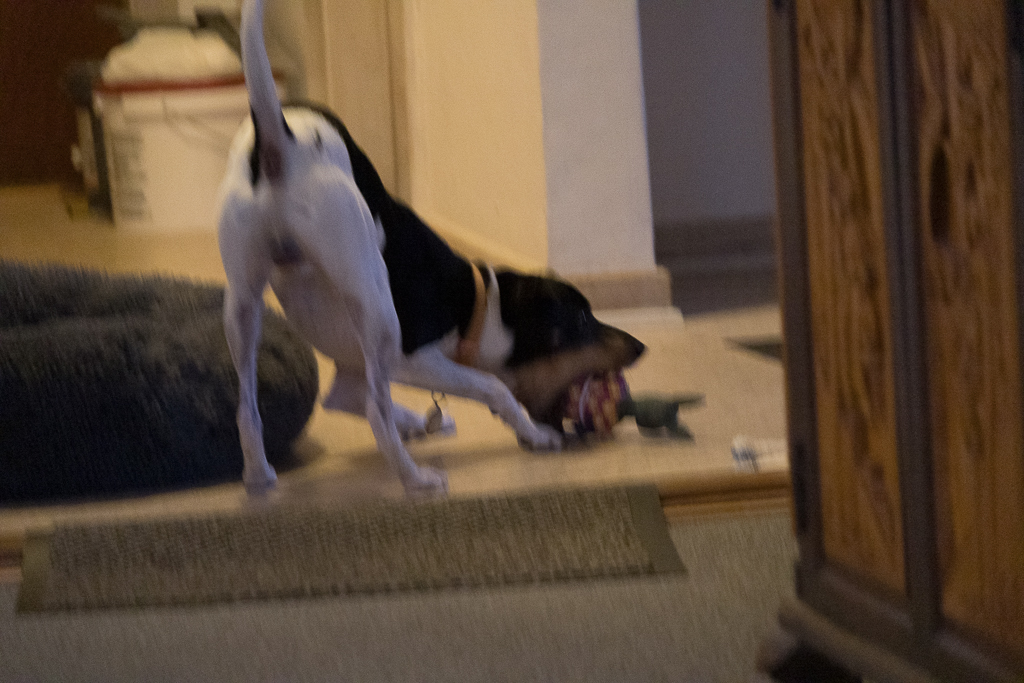Dog: (208, 0, 654, 501)
Humanoid: (535, 359, 715, 454)
